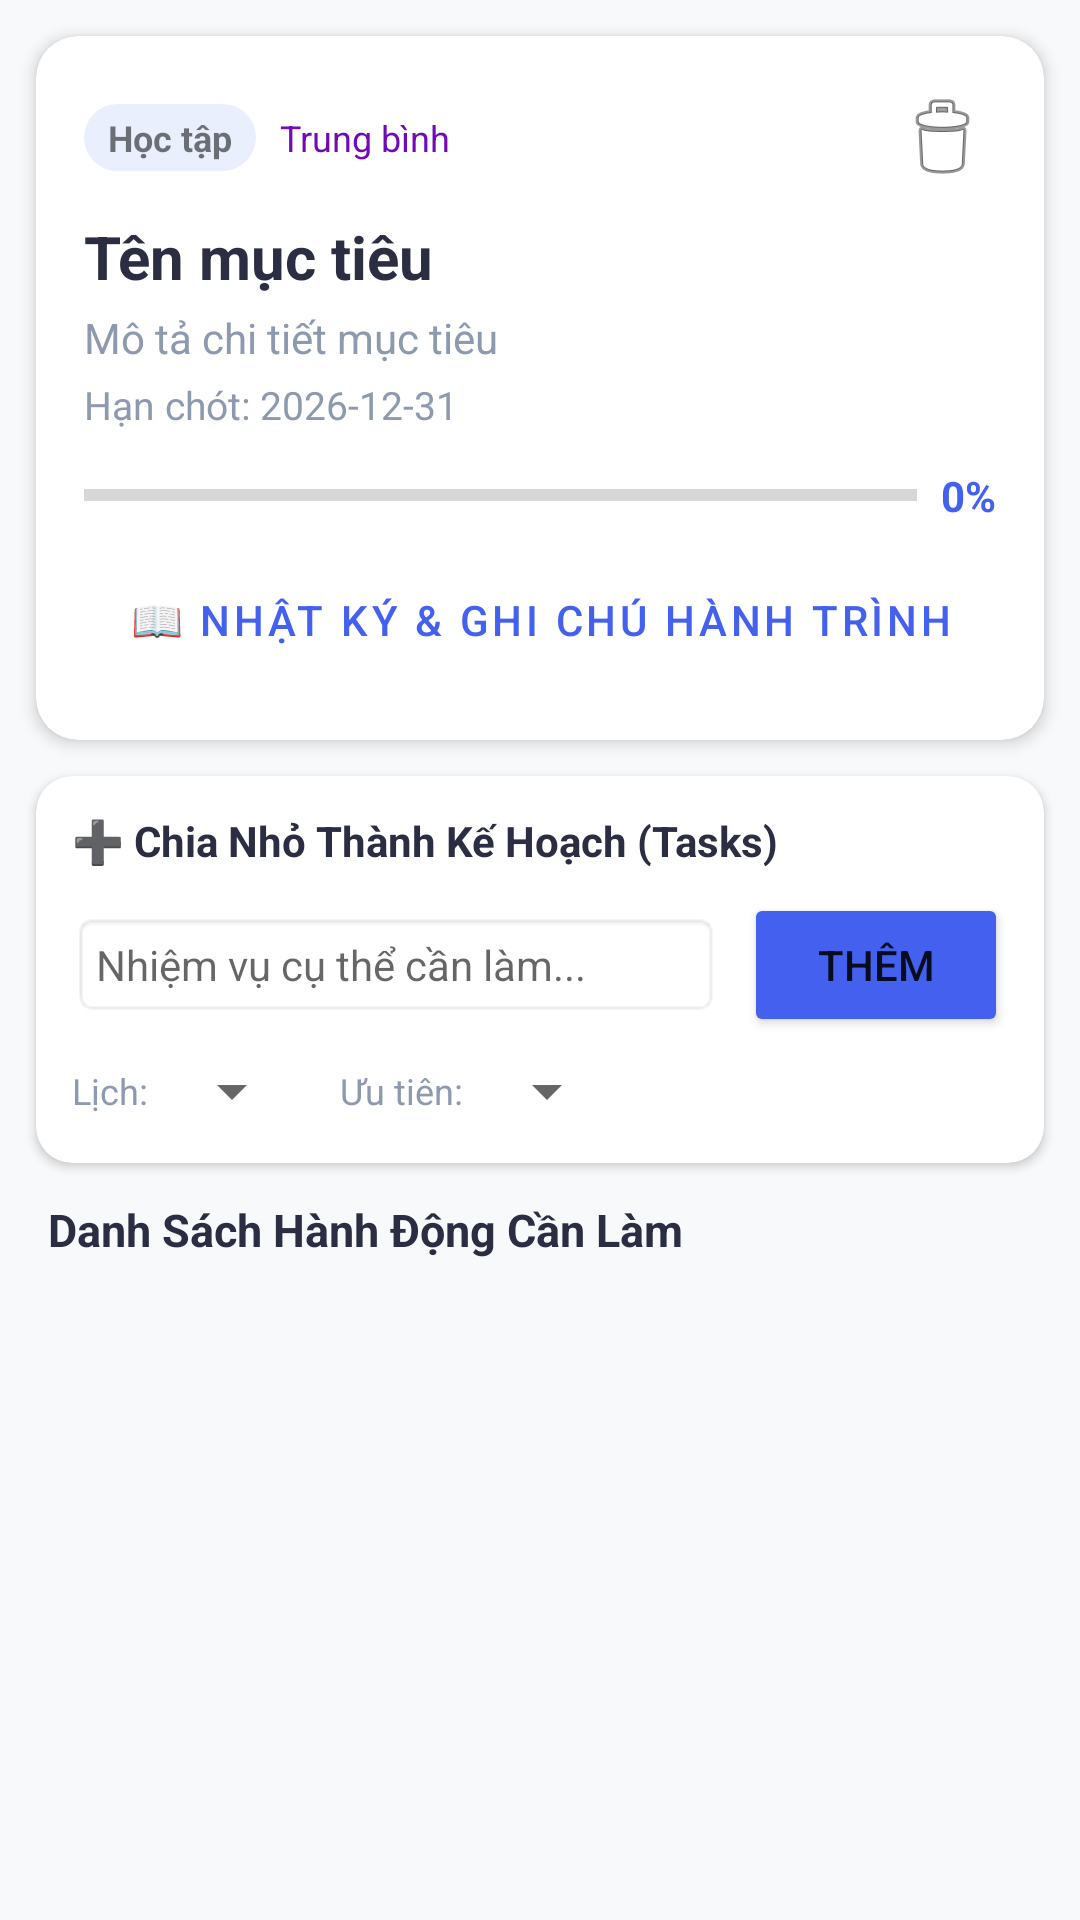

Screen size 1080×1920. Icon name, then its box in pixels as [x1, y1, x2, y2]:
Xóa mục tiêu: [915, 99, 970, 174]
